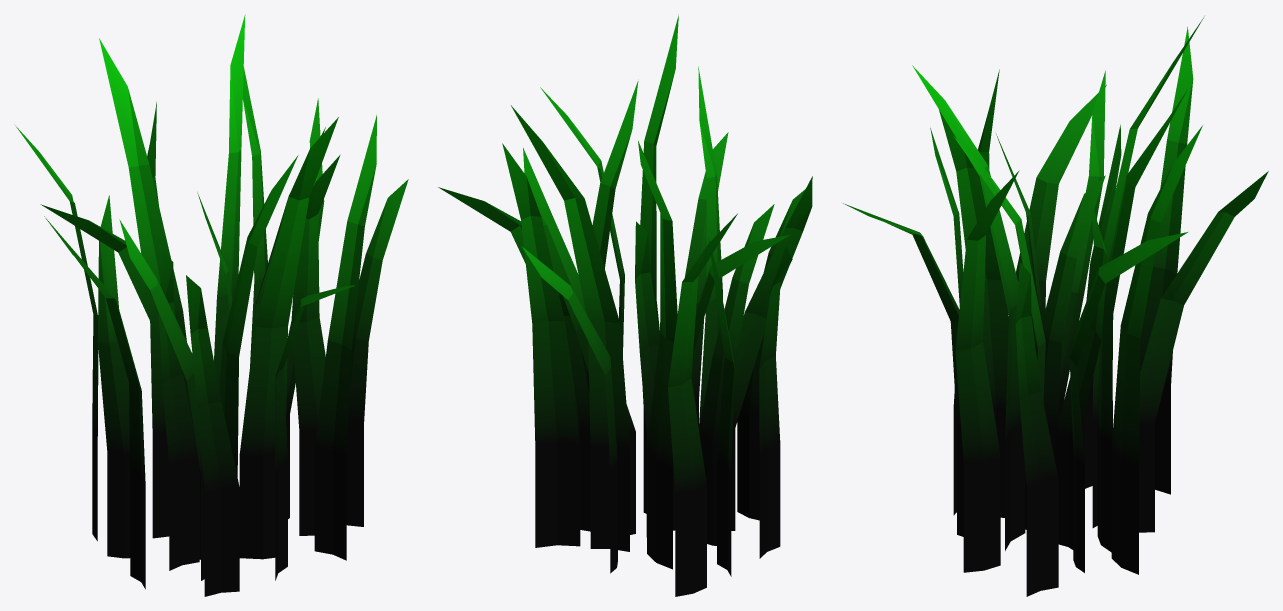
The model's file is SM_Grass_01.fbx.
The picture shows the model from 3 angles, left to right: view 1: azimuth 30°, elevation 25°; view 2: azimuth 150°, elevation 25°; view 3: azimuth 270°, elevation 25°; orthographic projection. The views are drawn at different scales.
Parts seen in each view (by area): view 1: SM_Grass_01; view 2: SM_Grass_01; view 3: SM_Grass_01.
Part boxes in pixels (x1,y1,x2,y2): SM_Grass_01: [14, 14, 408, 596]; SM_Grass_01: [438, 14, 812, 596]; SM_Grass_01: [843, 16, 1268, 596].
Bounding box in the file's own units: 99.1 × 136 × 107.
